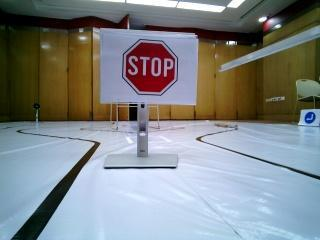stop: (113, 36, 192, 102)
